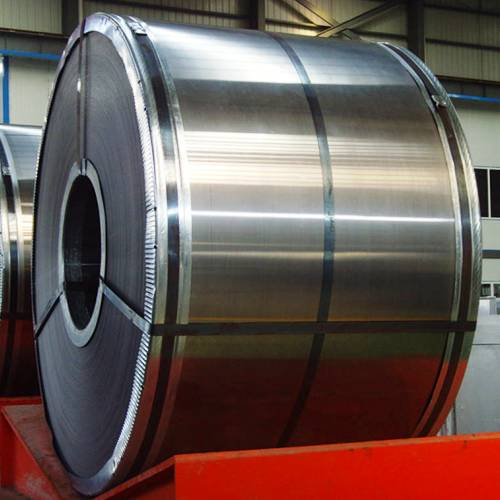steel-coil: (61, 17, 478, 427)
